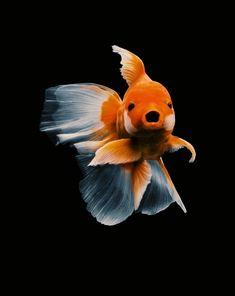goldfish: (40, 54, 213, 210)
